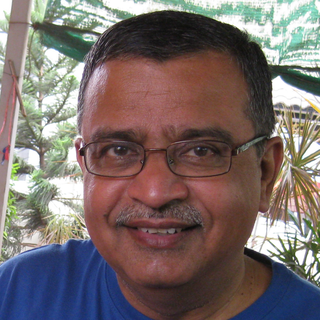eye: (178, 140, 225, 163), (98, 139, 140, 162)
